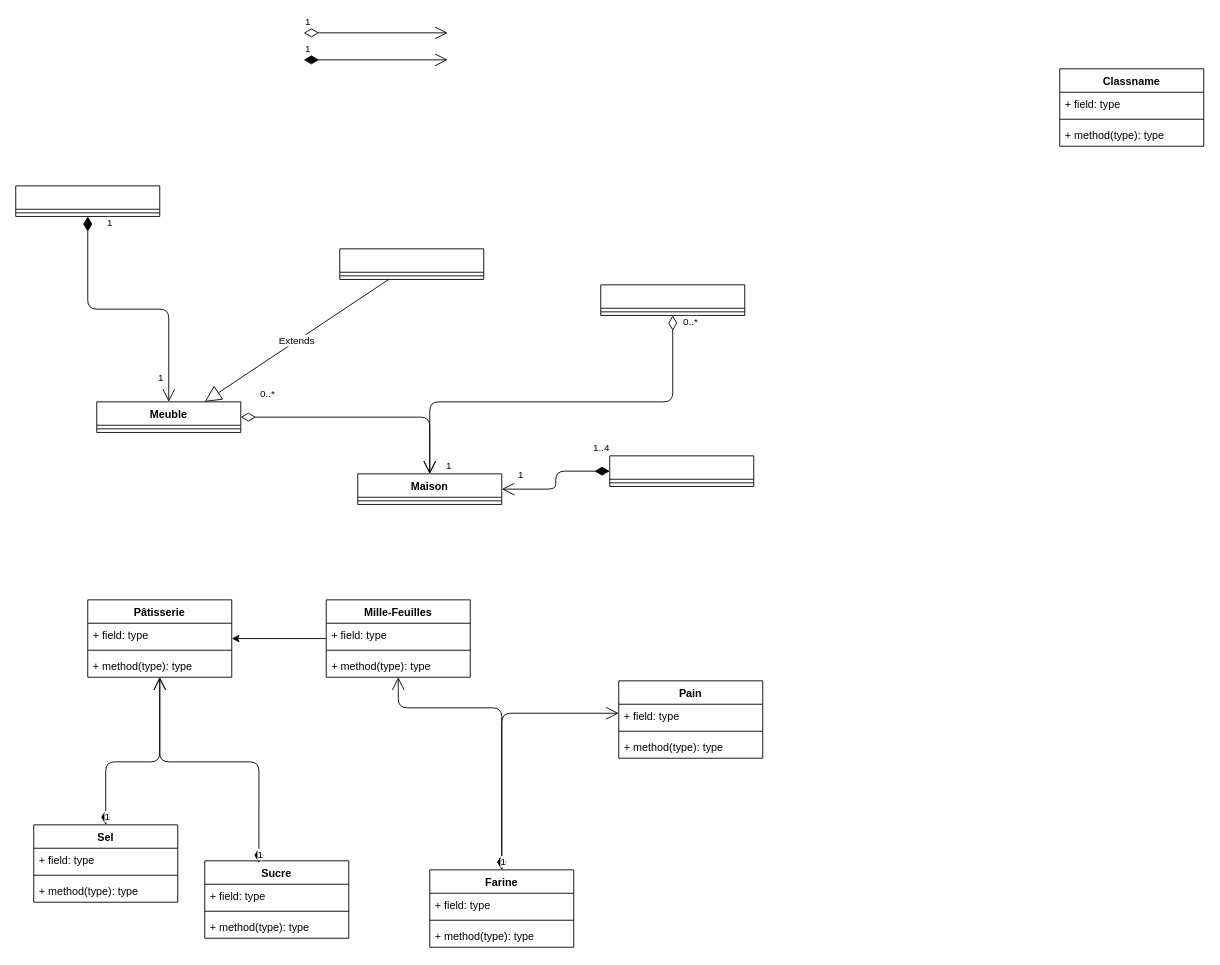
This 1220x965 diagram has some shape labels left out. Here are the shapes that lost their labels. From the top down, the centre of each, then its label:
At point 87,200: "Armoire".
At point 411,263: "Table".
At point 672,299: "Jardin".
At point 681,470: "Chambre".
